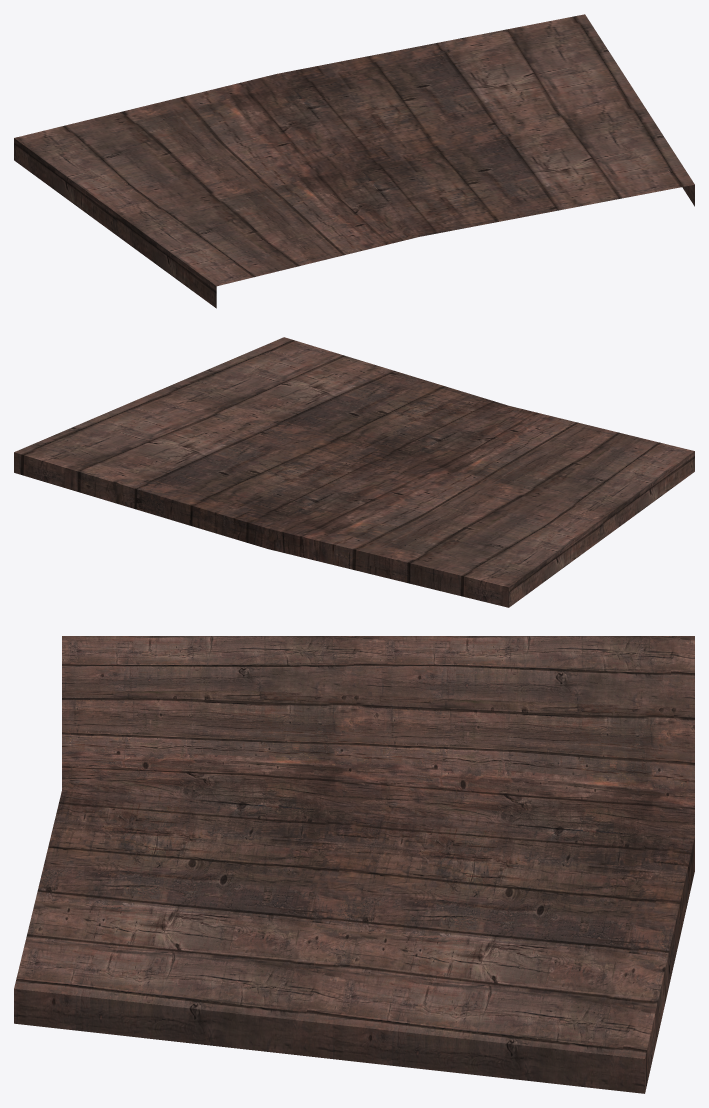
The model's file is SM_EN_1002_muban06.FBX.
3 views of the same model, one above another, from view 1: azimuth 30°, elevation 25°; view 2: azimuth 150°, elevation 25°; view 3: azimuth 270°, elevation 25° (orthographic). The views are drawn at different scales.
Visible parts, largest first — view 1: SM_EN_1002_muban06; view 2: SM_EN_1002_muban06; view 3: SM_EN_1002_muban06.
Boxes of the visible parts, x1=… form: SM_EN_1002_muban06: x1=14, y1=14, x2=694, y2=308; SM_EN_1002_muban06: x1=14, y1=337, x2=694, y2=607; SM_EN_1002_muban06: x1=14, y1=636, x2=694, y2=1093.
Size of the model in its own units: 440 by 16.91 by 299.
